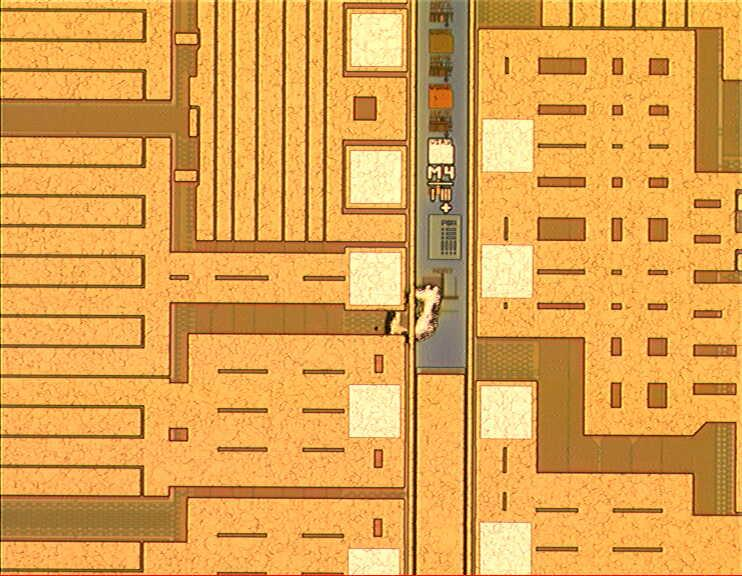BLOCK ETCH: (364, 270, 456, 362)
